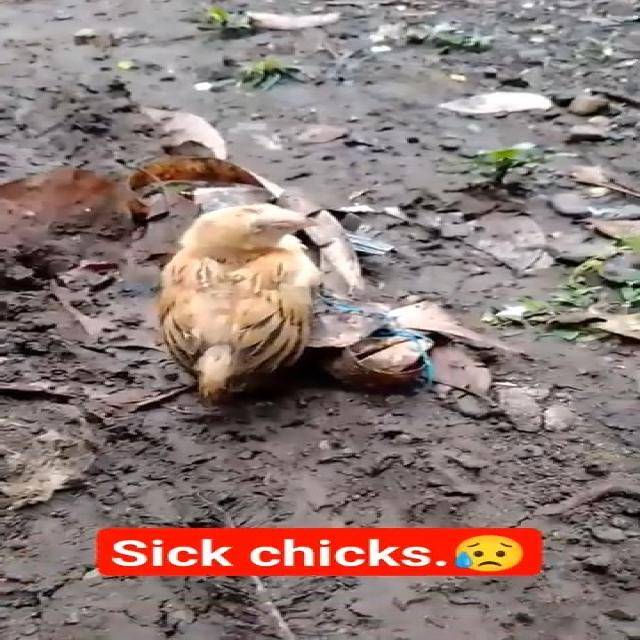abnormal chicken: (107, 176, 359, 408)
